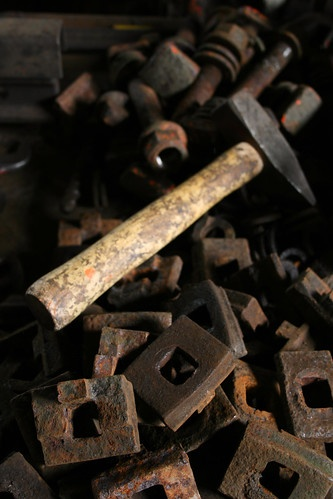hammer: (30, 90, 313, 341)
